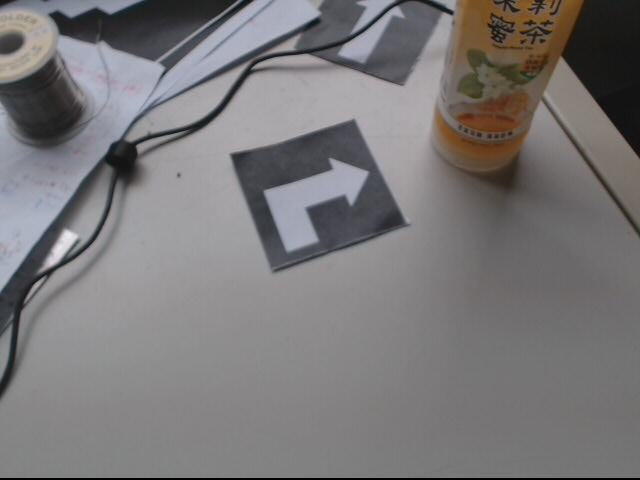right: (233, 118, 410, 272)
